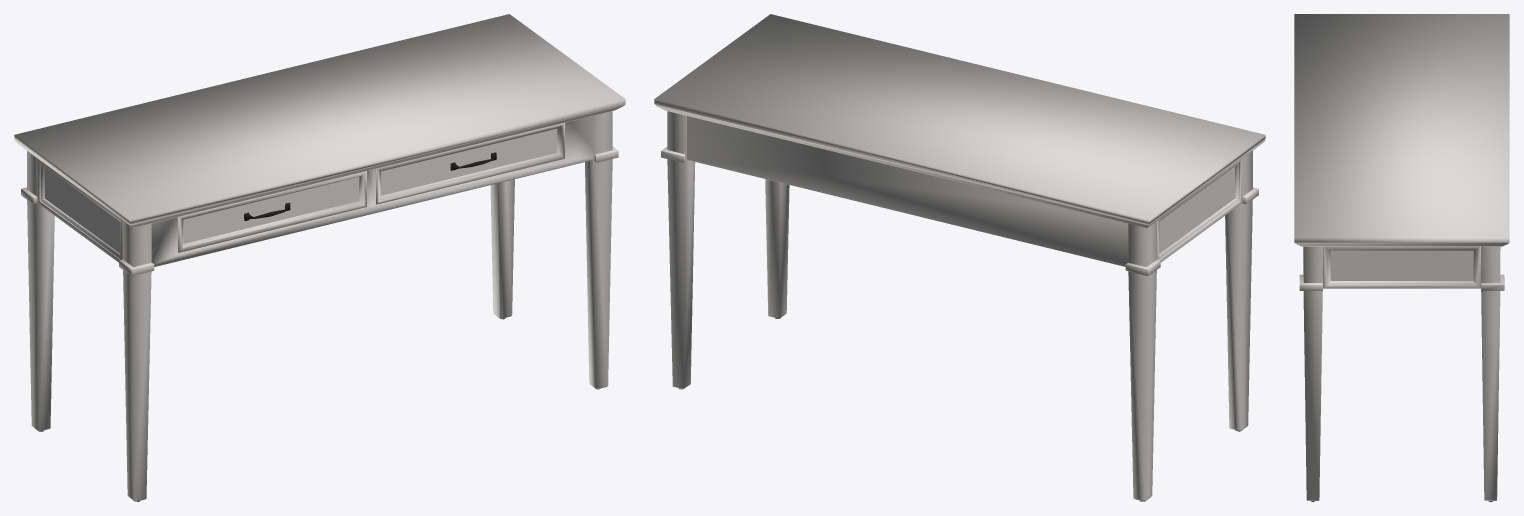
Rendered from abo-B07QC84LTR.glb.
3 renders of one model, left to right at view 1: azimuth 30°, elevation 25°; view 2: azimuth 150°, elevation 25°; view 3: azimuth 270°, elevation 25°, orthographic. The views are drawn at different scales.
Parts seen in each view (by area): view 1: RootNode; view 2: RootNode; view 3: RootNode.
Boxes of the visible parts, x1,y1,x2,y2 form: RootNode: [14, 14, 625, 501]; RootNode: [654, 14, 1265, 501]; RootNode: [1294, 14, 1509, 501].
Size of the model in its own units: 1.37 by 0.7729 by 0.5572.
1 material, 1 textured.
